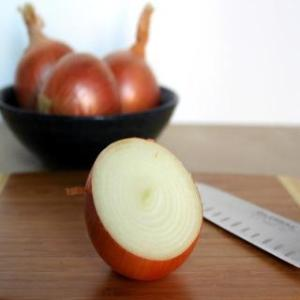onion: (80, 136, 204, 284)
